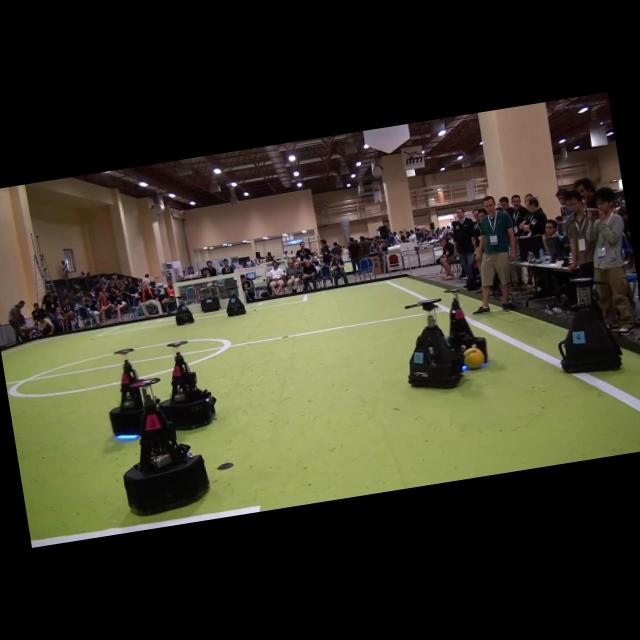ball: (463, 346, 485, 369)
goal: (235, 272, 246, 303)
robot: (123, 377, 210, 515), (558, 277, 622, 373), (406, 298, 465, 388), (160, 340, 216, 430), (109, 348, 144, 436), (446, 290, 487, 360), (198, 286, 221, 313), (226, 288, 246, 316), (175, 304, 195, 326)
